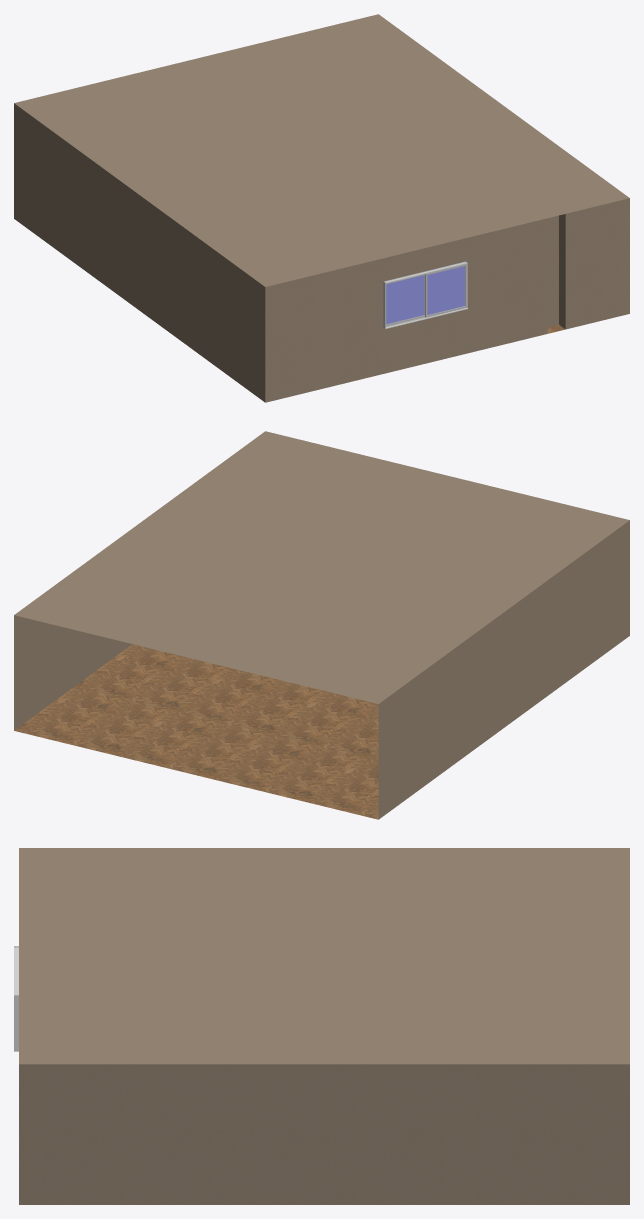
The model's file is DeborahsDeparment.fbx.
3 renders of one model, top to bottom at view 1: azimuth 30°, elevation 25°; view 2: azimuth 150°, elevation 25°; view 3: azimuth 270°, elevation 25°, orthographic. The views are drawn at different scales.
Parts seen in each view (by area): view 1: Plane, Window.L, Window.R, WindowFrame; view 2: Plane; view 3: Plane, WindowFrame.
Boxes of the visible parts, x1=… form: Plane: x1=14, y1=14, x2=629, y2=402; Window.L: x1=425, y1=264, x2=466, y2=317; Window.R: x1=386, y1=274, x2=424, y2=326; WindowFrame: x1=383, y1=261, x2=467, y2=328; Plane: x1=14, y1=431, x2=629, y2=819; Plane: x1=19, y1=848, x2=629, y2=1204; WindowFrame: x1=14, y1=946, x2=18, y2=1051.
Size of the model in its own units: 990 by 300 by 1191.
